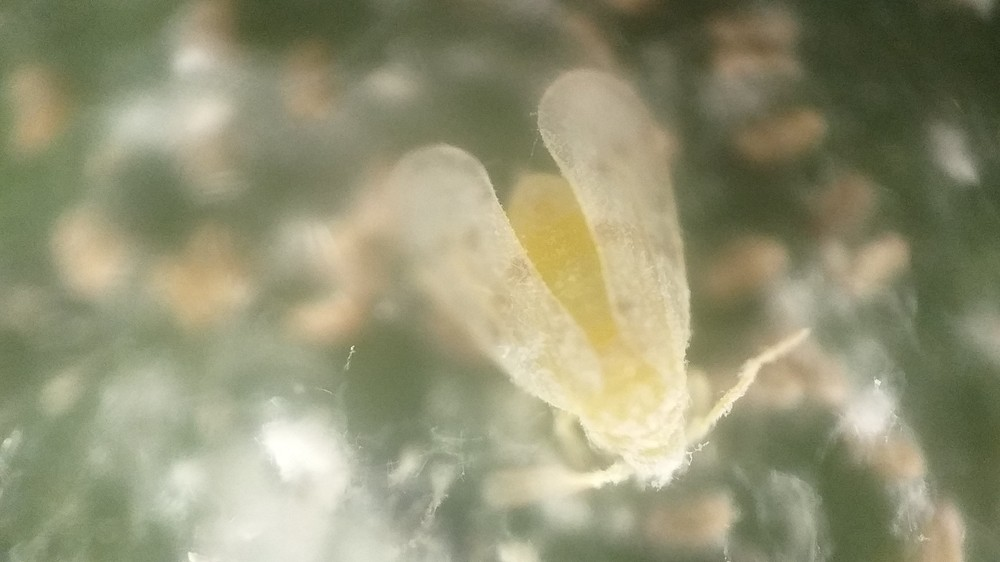Mosca Blanca: (375, 66, 823, 527)
